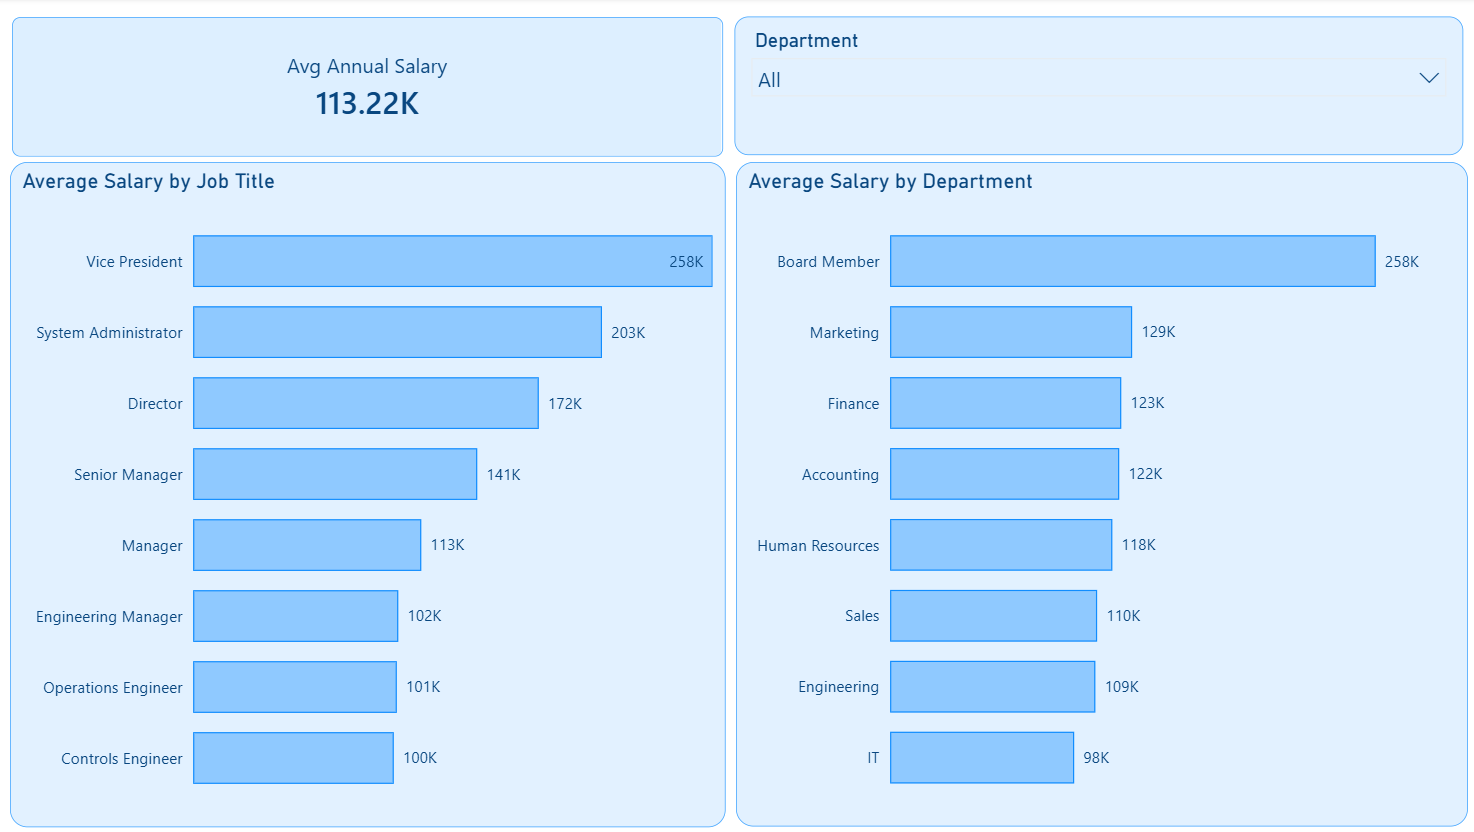

What the dashboard file says about the page in this screenshot:
{"tool":"powerbi","page":{"name":"Salary","canvas":[1280,720],"ordinal":2},"visuals":[{"type":"clusteredBarChart","title":"Average Salary by Job Title","fields":{"Y":["Measures_Table.Avg Annual Salary"],"Category":["Dim_Job.Job Title"]},"box":[15.1,142.3,616.3,572.4],"z":0},{"type":"clusteredBarChart","title":"Average Salary by Department","fields":{"Category":["Dim_Job.Department"],"Y":["Avg(Fact_Employees.Annual Salary)"]},"box":[640.5,142.3,630,572],"z":1000},{"type":"slicer","fields":{"Values":["Dim_Job.Department"]},"box":[639.7,17.2,627,119],"z":2000},{"type":"cardVisual","fields":{"Data":["Measures_Table.Avg Annual Salary"]},"box":[0,0,646.6,154.4],"z":3000}]}

Visuals, with their boxes in screenshot pixels (x1, y1, x2, y2), scaled from the page's 1280x720 canvas onto the 1474x832 screenshot:
"Average Salary by Job Title" clusteredBarChart: pyautogui.locateOnScreen(17, 164, 727, 826)
"Average Salary by Department" clusteredBarChart: pyautogui.locateOnScreen(738, 164, 1463, 825)
slicer - Dim_Job.Department: pyautogui.locateOnScreen(737, 20, 1459, 157)
cardVisual - Measures_Table.Avg Annual Salary: pyautogui.locateOnScreen(0, 0, 745, 178)
